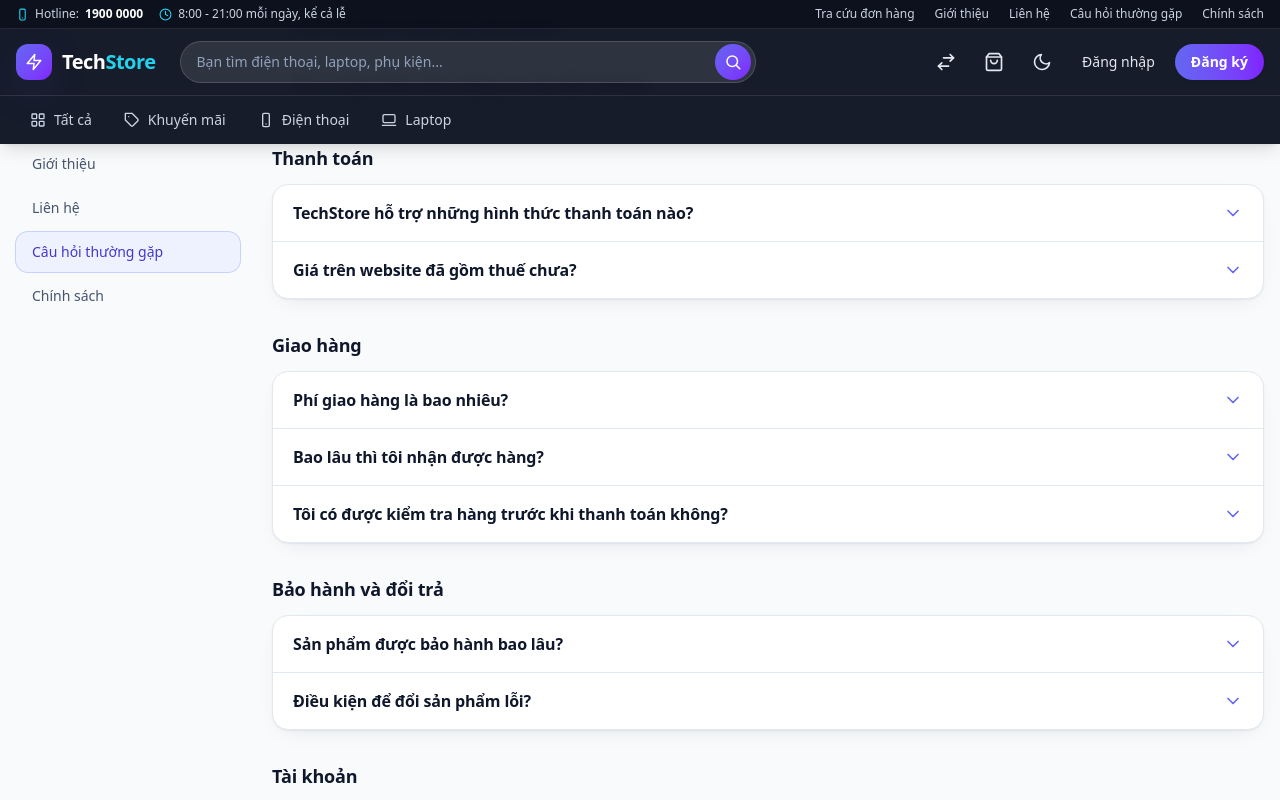
Câu hỏi thường gặp › bấm câu hỏi thì mở câu trả lời, bấm lại thì đóng; chỉ một câu mở tại một thời điểm
(page scrolled)
Click the button "Phí giao hàng là bao nhiêu?".
click(401, 400)  # box [273, 372, 1263, 428]
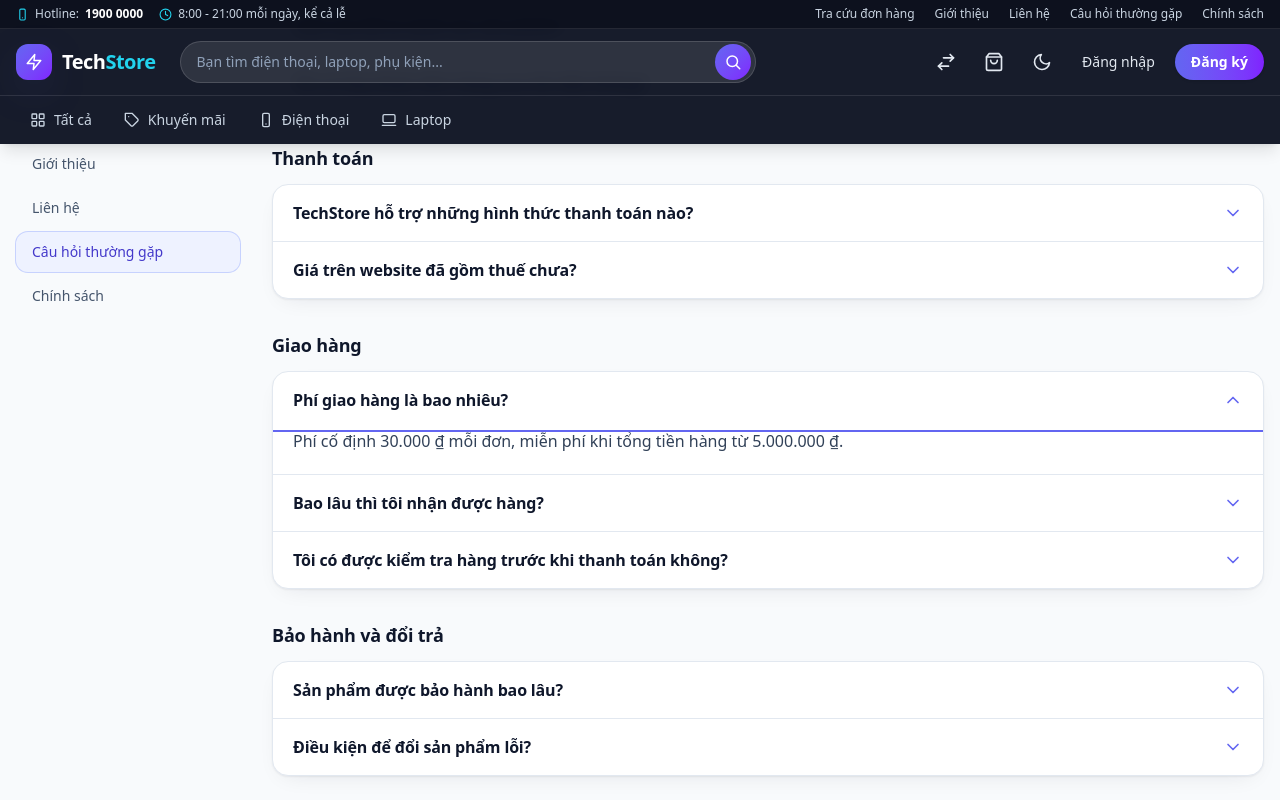
Result: the button "Phí giao hàng là bao nhiêu?" is expanded at [273, 372, 1263, 428]
Result: the text named "Phí giao hàng là bao nhiêu?" shows "30.000" at [293, 430, 843, 452]
Click the button "Sản phẩm được bảo hành bao lâu?".
click(428, 690)  # box [273, 662, 1263, 718]
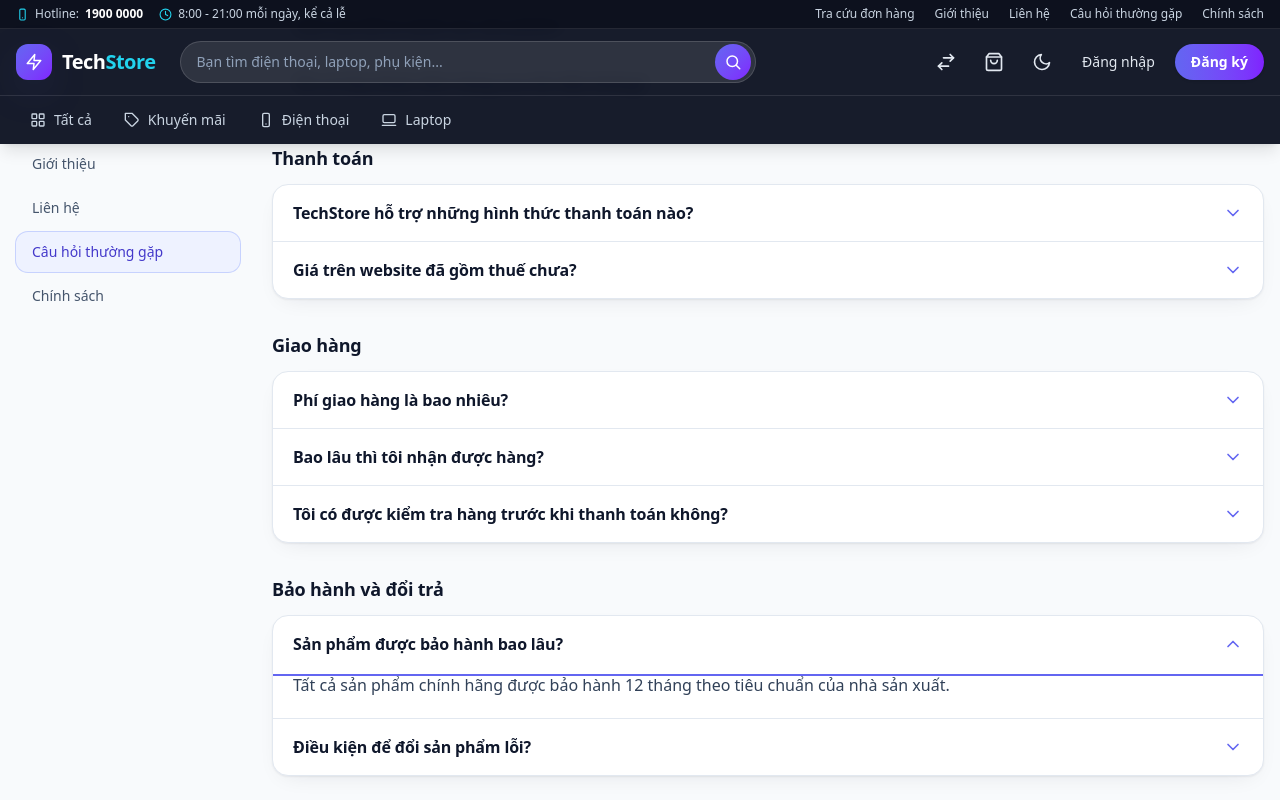
Result: the button "Phí giao hàng là bao nhiêu?" is collapsed at [273, 372, 1263, 428]
Result: the button "Sản phẩm được bảo hành bao lâu?" is expanded
Click the button "Sản phẩm được bảo hành bao lâu?".
click(428, 644)  # box [273, 616, 1263, 672]
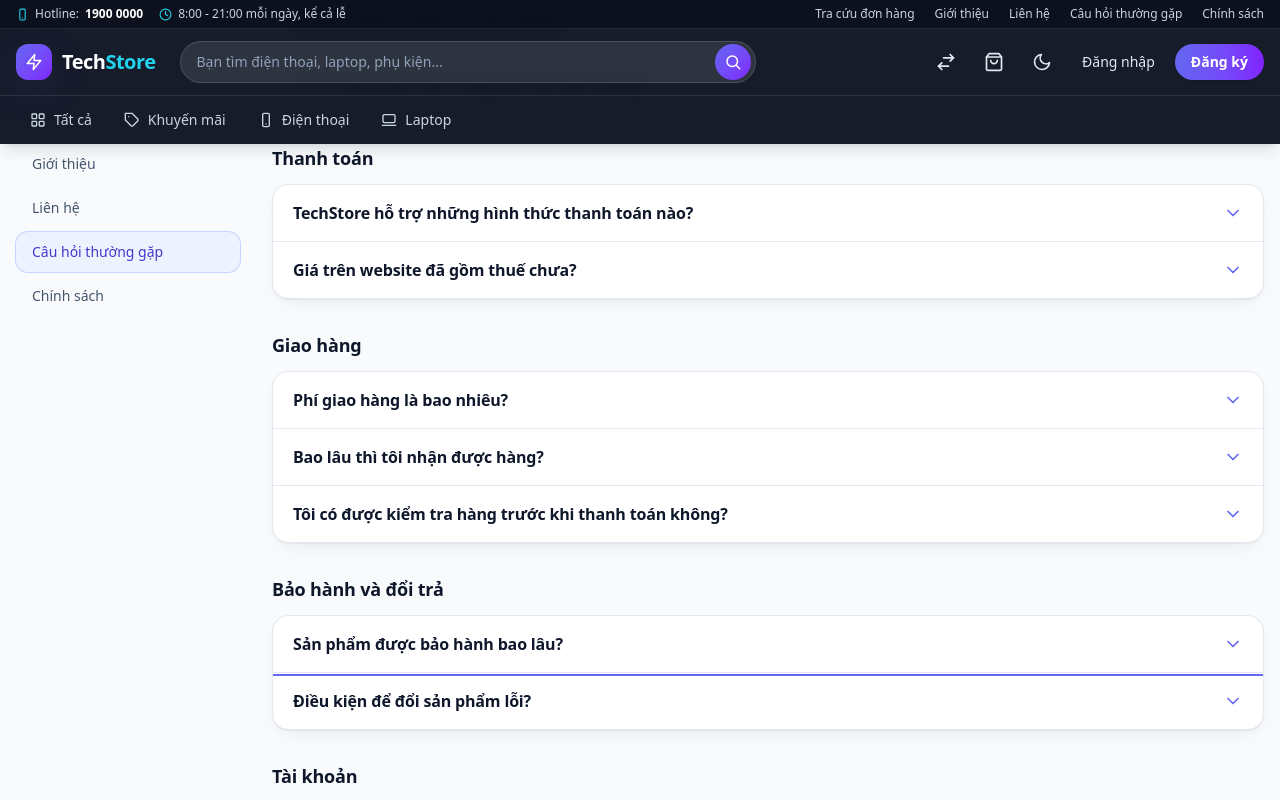
Result: the button "Sản phẩm được bảo hành bao lâu?" is collapsed at [273, 616, 1263, 672]
